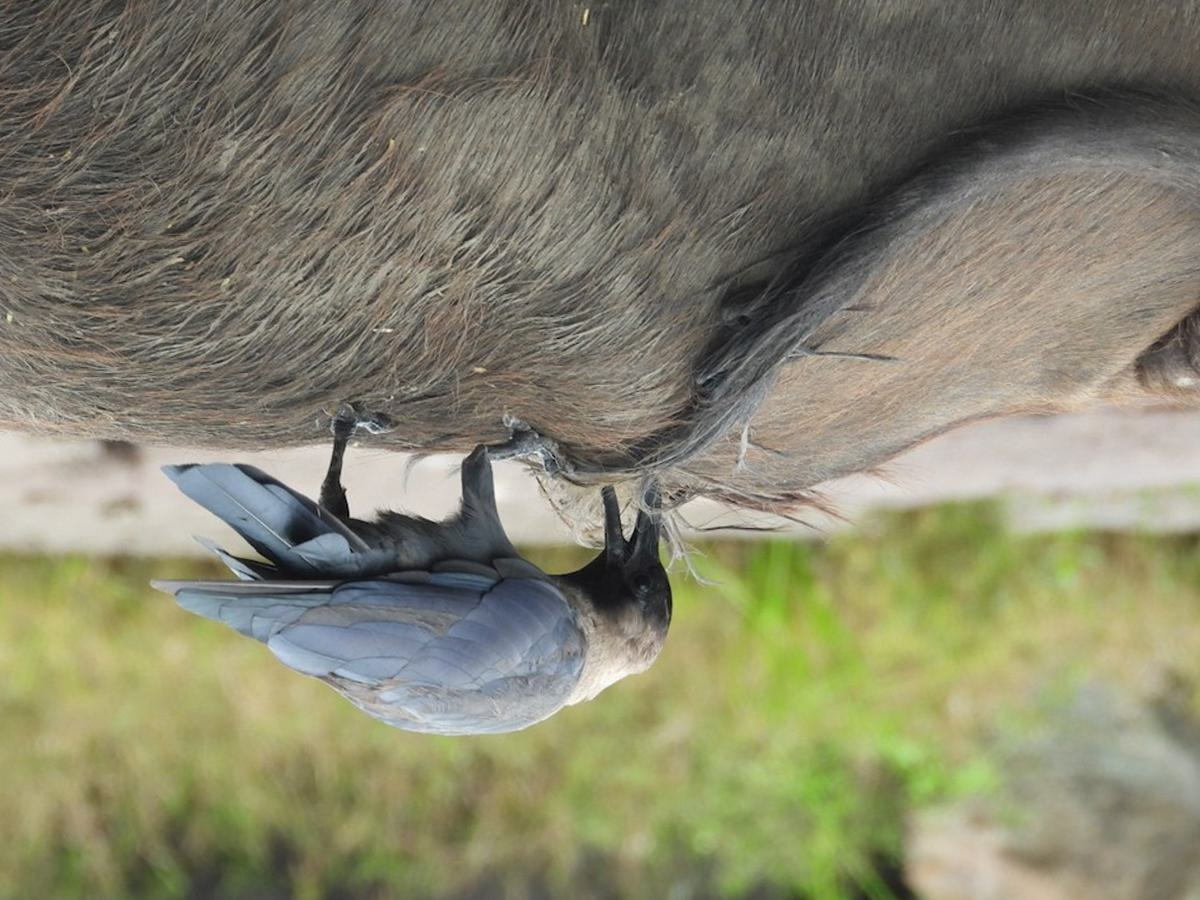crow: (127, 454, 753, 759)
